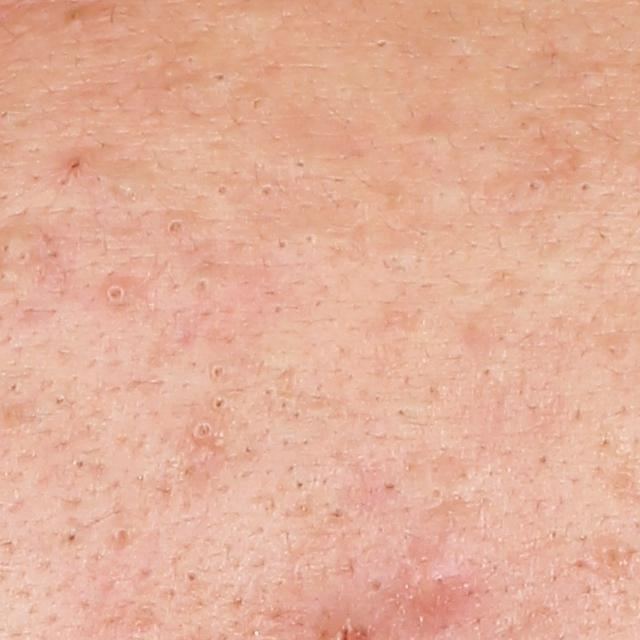comedo: (99, 278, 132, 310), (164, 217, 189, 239), (189, 421, 215, 440), (255, 181, 278, 202), (214, 181, 235, 200), (272, 236, 291, 254), (371, 36, 391, 53), (210, 363, 228, 381), (576, 178, 594, 195), (300, 230, 317, 247), (209, 70, 229, 84), (72, 455, 89, 470), (212, 394, 228, 409), (66, 528, 79, 544), (186, 568, 200, 582)
papule: (416, 559, 472, 619)
